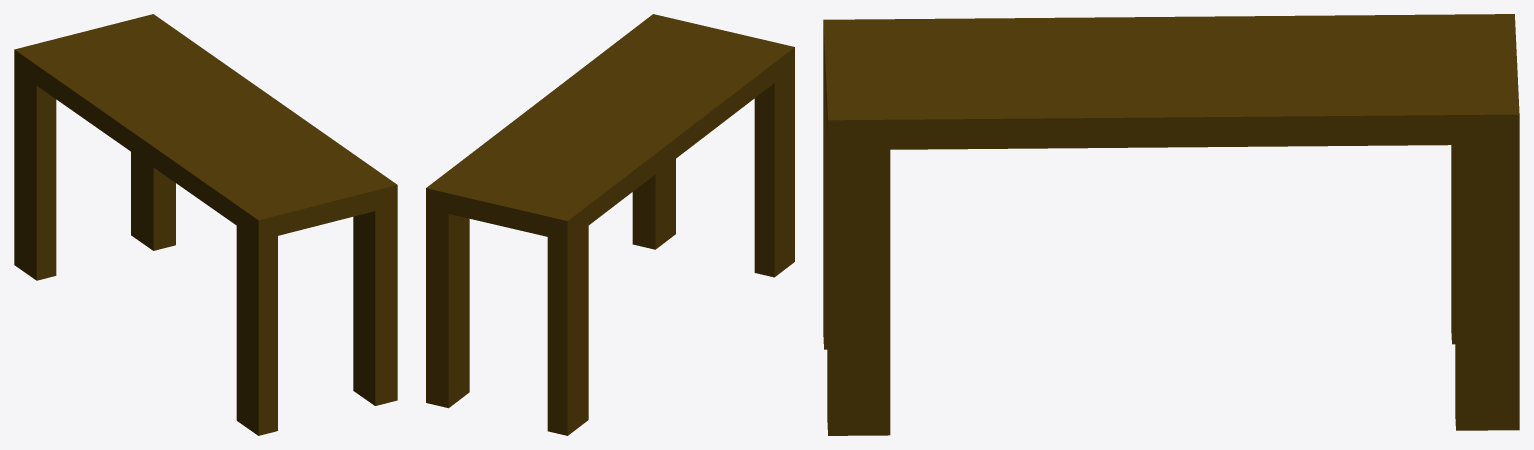
Rendered from table.fbx.
3 views of the same model, side by side, from view 1: azimuth 30°, elevation 25°; view 2: azimuth 150°, elevation 25°; view 3: azimuth 270°, elevation 25° (orthographic). The views are drawn at different scales.
Visible parts, largest first — view 1: table; view 2: table; view 3: table.
Boxes of the visible parts, box(x1,y1,x2,y2) form: table: box(14, 14, 397, 435); table: box(426, 14, 794, 435); table: box(823, 14, 1519, 435).
Bounding box in the file's own units: 2.3 × 3.18 × 6.35.
